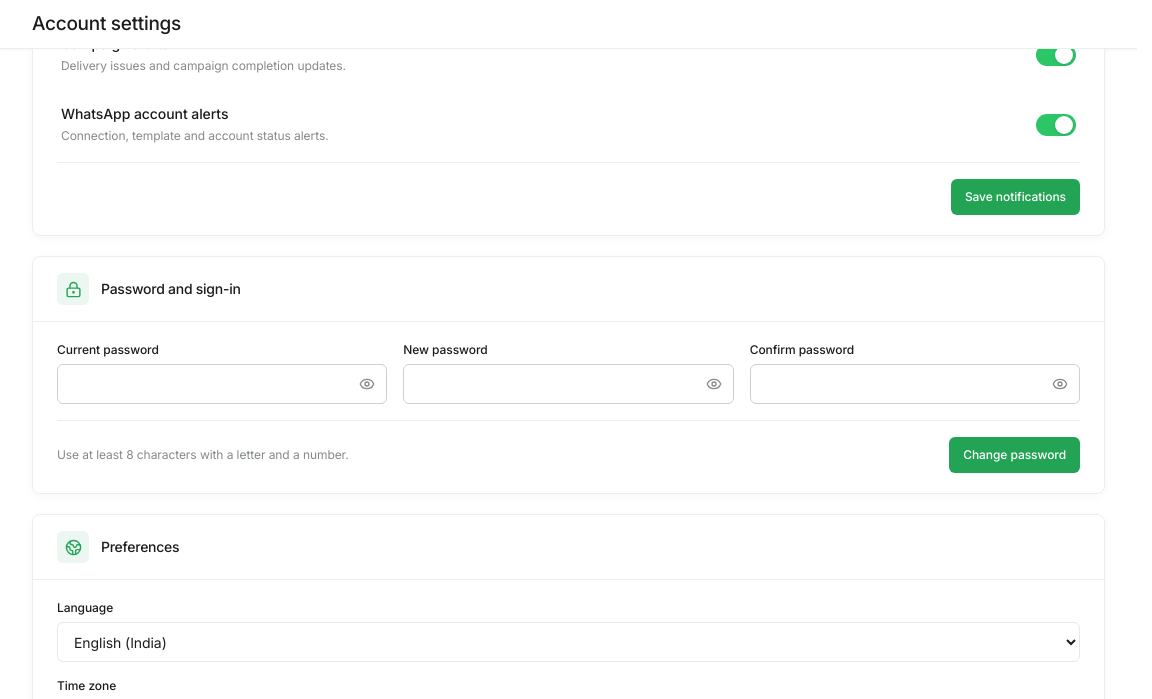
Test: AccountSettings › blocks a password change when confirmation does not match
The width and height of the screenshot is (1152, 699).
(page scrolled)
In the password field labelled "Current password": (222, 384) [57, 364, 387, 404], type "current-password"
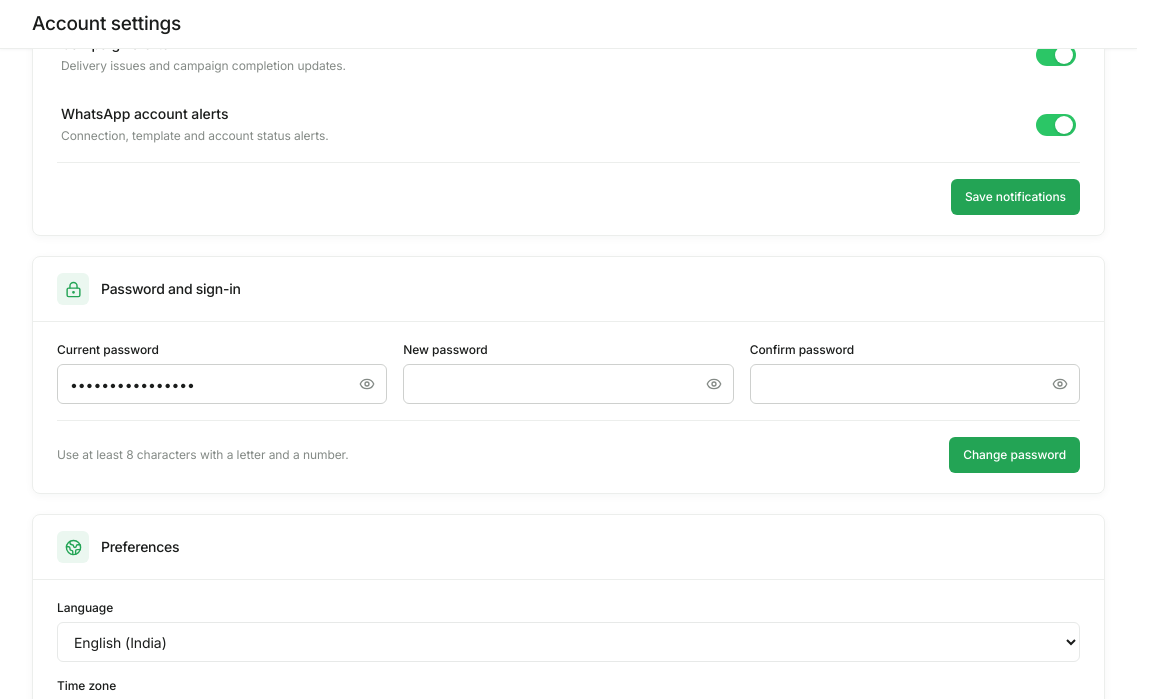
In the password field labelled "New password": (568, 384) [403, 364, 734, 404], type "new-password"
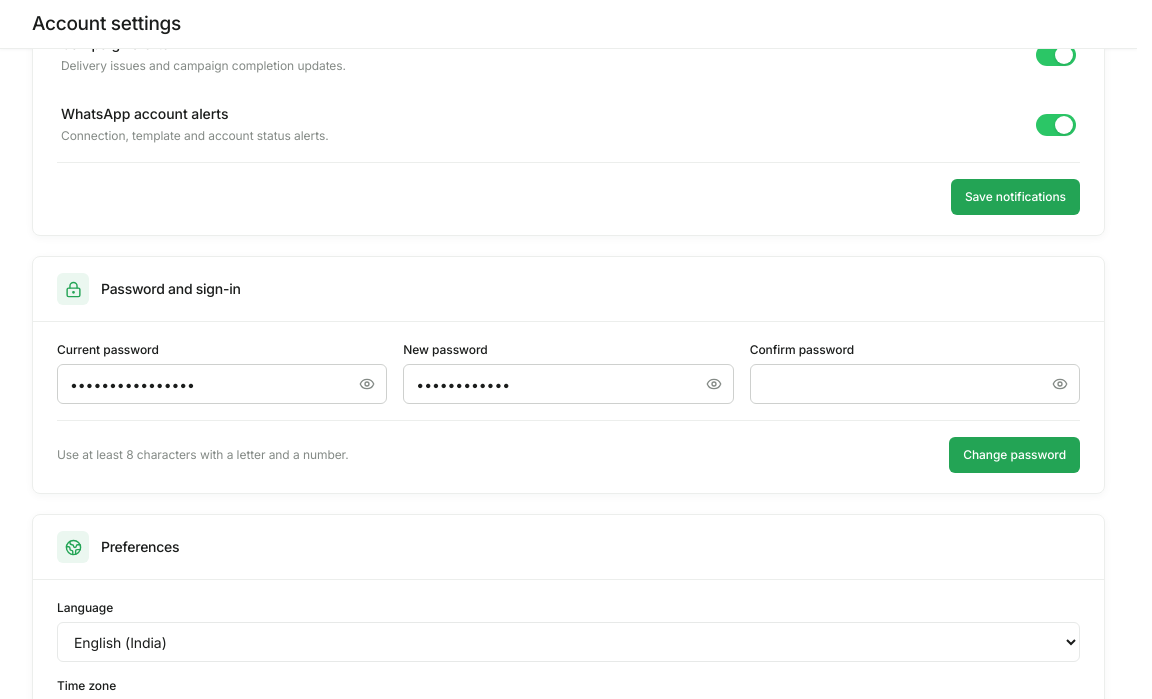
In the password field labelled "Confirm password": (915, 384) [750, 364, 1080, 404], type "different-password"
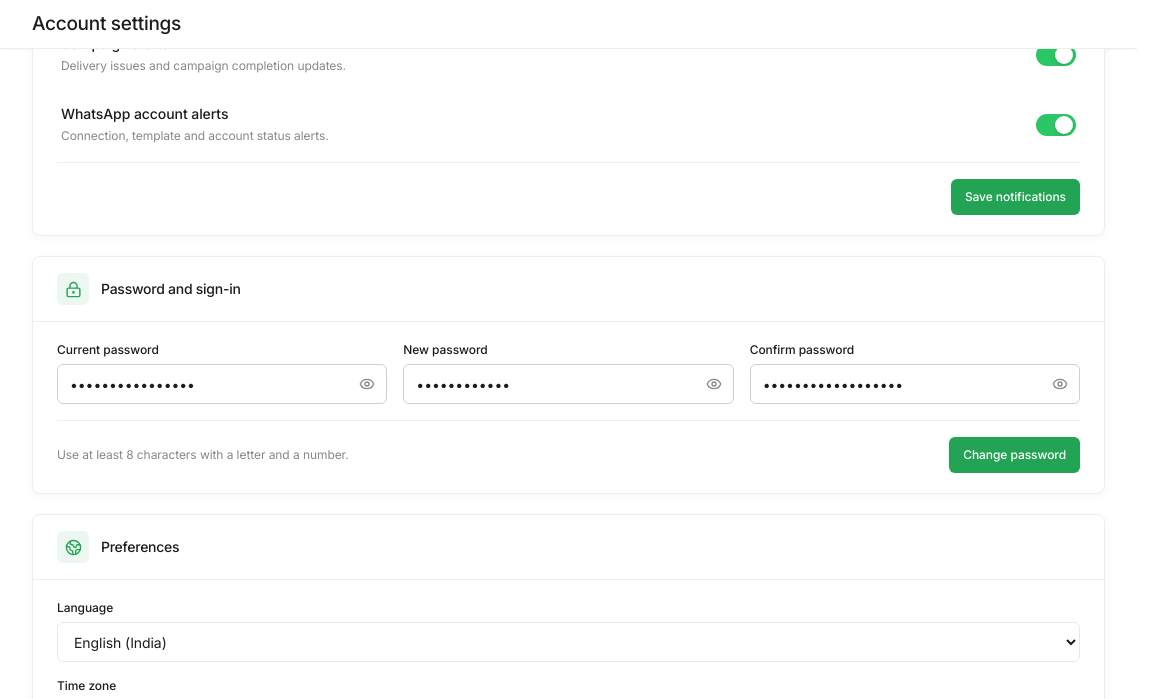
Click the button "Change password": (1015, 455) [949, 437, 1080, 473]
(page scrolled)
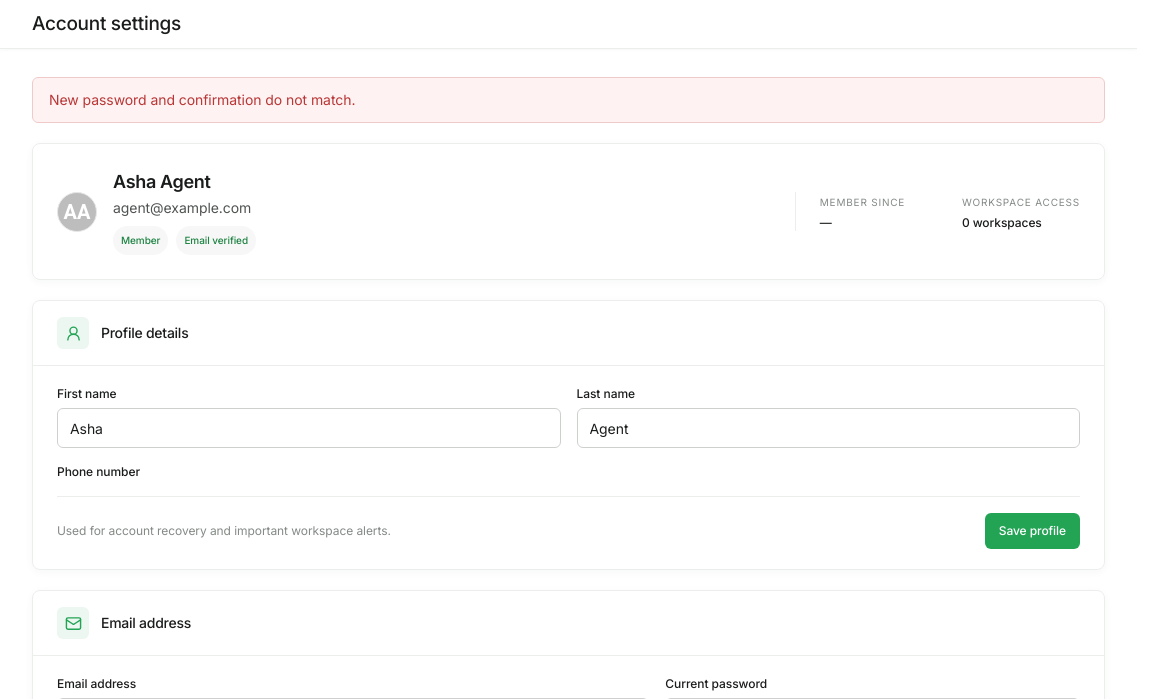
Expected: the message shows "do not match", [49, 91, 355, 108]
